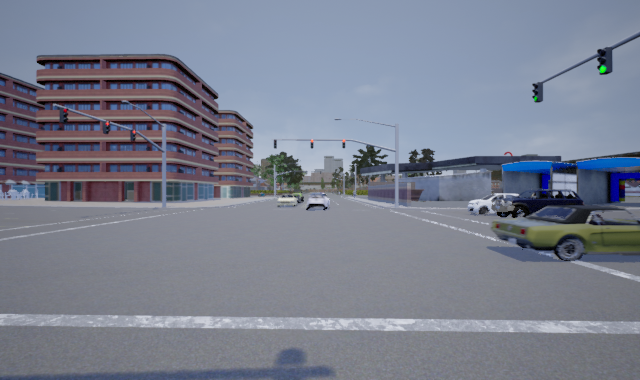vehicle: (491, 203, 639, 264), (488, 187, 588, 221), (466, 193, 530, 216), (305, 193, 331, 211), (277, 192, 298, 208)
